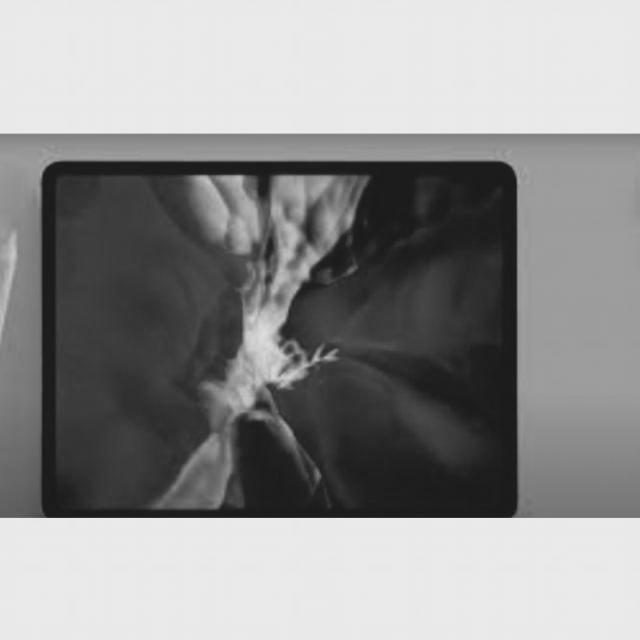fake: (40, 152, 530, 514)
